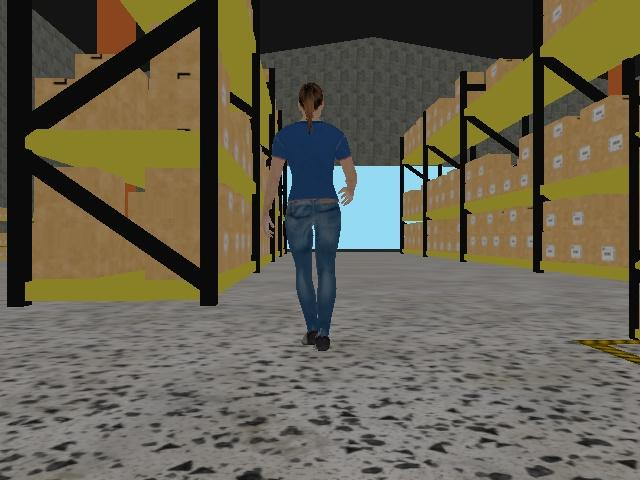person: (261, 81, 359, 353)
